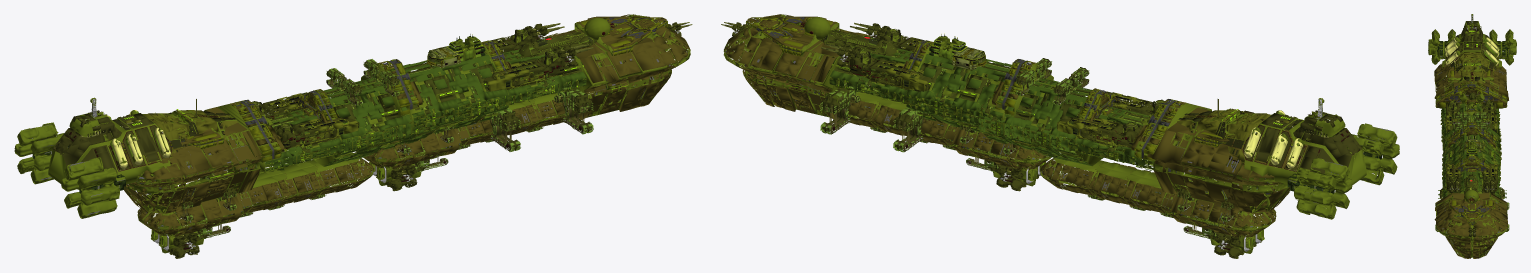
File: mothership_game.glb
3 renders of one model, left to right at view 1: azimuth 30°, elevation 25°; view 2: azimuth 150°, elevation 25°; view 3: azimuth 270°, elevation 25°, orthographic. The views are drawn at different scales.
Parts seen in each view (by area): view 1: Object_67, Object_2, Object_70, Object_137, Object_65, Object_82, Object_79, Object_159, Object_162, Object_160, Object_119, Object_91 (+59 smaller); view 2: Object_2, Object_70, Object_69, Object_67, Object_137, Object_162, Object_159, Object_160, Object_4, Object_164, Object_85, Object_116 (+62 smaller); view 3: Object_67, Object_70, Object_11, Object_4, Object_137, Object_2, Object_123, Object_149, Object_150, Object_84, Object_66, Object_65 (+74 smaller).
Part boxes in pixels (x1=…): Object_67: x1=549, y1=14, x2=690, y2=90; Object_2: x1=52, y1=99, x2=224, y2=173; Object_70: x1=94, y1=106, x2=261, y2=188; Object_137: x1=48, y1=110, x2=240, y2=189; Object_65: x1=579, y1=31, x2=671, y2=119; Object_82: x1=124, y1=130, x2=260, y2=213; Object_79: x1=137, y1=193, x2=243, y2=236; Object_159: x1=434, y1=48, x2=508, y2=128; Object_162: x1=316, y1=80, x2=391, y2=166; Object_160: x1=389, y1=60, x2=462, y2=138; Object_119: x1=61, y1=167, x2=119, y2=218; Object_91: x1=363, y1=126, x2=461, y2=168; Object_2: x1=1190, y1=99, x2=1362, y2=173; Object_70: x1=1147, y1=107, x2=1320, y2=185; Object_69: x1=1154, y1=132, x2=1289, y2=212; Object_67: x1=724, y1=14, x2=871, y2=87; Object_137: x1=1155, y1=110, x2=1366, y2=190; Object_162: x1=1024, y1=80, x2=1099, y2=165; Object_159: x1=906, y1=48, x2=982, y2=127; Object_160: x1=952, y1=58, x2=1025, y2=137; Object_4: x1=1155, y1=109, x2=1289, y2=170; Object_164: x1=978, y1=72, x2=1053, y2=153; Object_85: x1=743, y1=31, x2=835, y2=119; Object_116: x1=1294, y1=158, x2=1352, y2=208; Object_67: x1=1434, y1=192, x2=1507, y2=242; Object_70: x1=1434, y1=63, x2=1508, y2=101; Object_11: x1=1436, y1=55, x2=1505, y2=224; Object_4: x1=1442, y1=42, x2=1501, y2=102; Object_137: x1=1442, y1=21, x2=1501, y2=106; Object_2: x1=1445, y1=21, x2=1498, y2=101; Object_123: x1=1435, y1=192, x2=1507, y2=241; Object_149: x1=1435, y1=81, x2=1507, y2=176; Object_150: x1=1447, y1=122, x2=1496, y2=225; Object_84: x1=1436, y1=81, x2=1506, y2=107; Object_66: x1=1450, y1=198, x2=1494, y2=225; Object_65: x1=1446, y1=209, x2=1497, y2=258.
Bounding box in the file's own units: 6.95 × 1.78 × 1.36.
